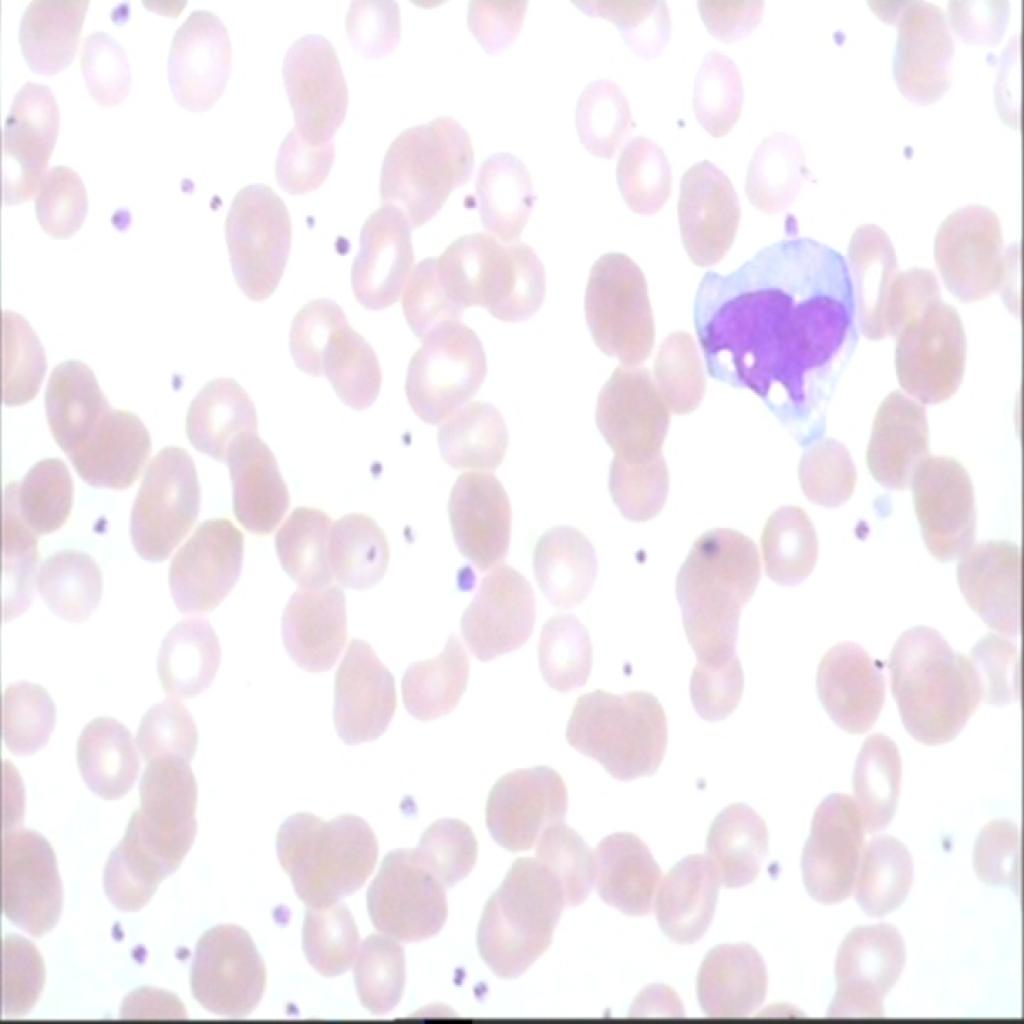Monosit: (700, 219, 863, 441)
Platelet: (882, 128, 930, 176), (82, 0, 146, 34), (815, 18, 866, 55), (757, 839, 788, 898), (100, 188, 136, 238), (167, 158, 199, 210), (442, 558, 480, 601), (848, 512, 884, 556), (680, 761, 712, 805), (772, 199, 804, 242), (932, 828, 964, 870), (262, 894, 297, 930), (604, 646, 634, 686), (395, 782, 421, 827), (515, 180, 549, 214), (169, 932, 201, 967), (691, 522, 717, 564), (464, 967, 496, 1001), (330, 222, 358, 260), (122, 939, 150, 976), (85, 503, 114, 537), (392, 414, 416, 455), (164, 361, 188, 400), (352, 535, 380, 567), (626, 544, 654, 576), (202, 180, 223, 222), (392, 512, 412, 555), (368, 442, 394, 474), (451, 185, 481, 210), (108, 914, 131, 944), (444, 949, 465, 978), (297, 204, 320, 230), (671, 108, 691, 132)
